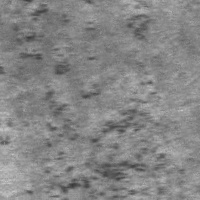rolled-in_scale: (31, 78, 186, 197), (6, 0, 99, 104), (119, 0, 157, 43)
